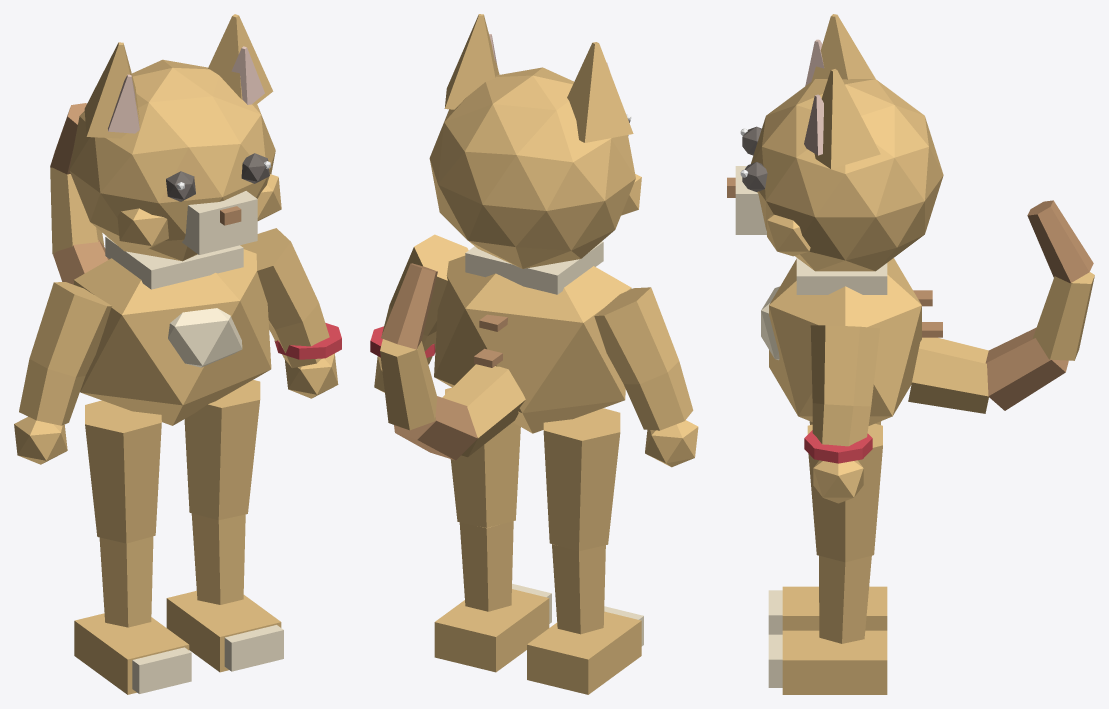
File: cat_v2_faceted.glb
The picture shows the model from 3 angles, left to right: view 1: azimuth 30°, elevation 25°; view 2: azimuth 150°, elevation 25°; view 3: azimuth 270°, elevation 25°; orthographic projection.
Visible parts, largest first — view 1: Head, Torso, Thigh.-1, Thigh.1, Arm.-1, Arm.1, Boot.-1, Boot.1, Shin.1, Shin.-1, Collar, Chest (+17 smaller); view 2: Head, Torso, Thigh.-1, Arm.-1, Boot.-1, Boot.1, Thigh.1, Shin.1, Shin.-1, Tail.2, Tail.0, Ear.-1 (+6 smaller); view 3: Head, Torso, Arm.1, Boot.1, Thigh.1, Tail.0, Shin.1, Tail.1, Tail.2, Ear.1, Tail.3, Boot.-1 (+11 smaller).
Boxes of the visible parts, bbox=[...] form: Head: bbox=[69, 59, 275, 261]; Torso: bbox=[73, 249, 271, 425]; Thigh.-1: bbox=[85, 400, 161, 543]; Thigh.1: bbox=[184, 380, 260, 520]; Arm.-1: bbox=[19, 282, 111, 425]; Arm.1: bbox=[240, 228, 329, 368]; Boot.-1: bbox=[74, 613, 189, 694]; Boot.1: bbox=[166, 591, 281, 672]; Shin.1: bbox=[191, 513, 245, 604]; Shin.-1: bbox=[99, 536, 153, 627]; Collar: bbox=[105, 236, 243, 289]; Chest: bbox=[168, 308, 242, 367]; Head: bbox=[429, 67, 635, 268]; Torso: bbox=[434, 255, 631, 433]; Thigh.-1: bbox=[543, 408, 620, 551]; Arm.-1: bbox=[594, 287, 693, 430]; Boot.-1: bbox=[527, 611, 641, 694]; Boot.1: bbox=[434, 589, 549, 672]; Thigh.1: bbox=[445, 387, 520, 527]; Shin.1: bbox=[459, 521, 513, 611]; Shin.-1: bbox=[552, 544, 605, 634]; Tail.2: bbox=[380, 339, 437, 430]; Tail.0: bbox=[442, 364, 525, 457]; Ear.-1: bbox=[567, 42, 633, 142]; Head: bbox=[751, 79, 943, 271]; Torso: bbox=[769, 258, 921, 425]; Arm.1: bbox=[810, 325, 879, 446]; Boot.1: bbox=[782, 630, 887, 694]; Thigh.1: bbox=[807, 423, 882, 562]; Tail.0: bbox=[908, 337, 988, 413]; Shin.1: bbox=[819, 555, 871, 643]; Tail.1: bbox=[985, 327, 1068, 410]; Tail.2: bbox=[1033, 272, 1094, 360]; Ear.1: bbox=[814, 69, 880, 168]; Tail.3: bbox=[1027, 200, 1093, 282]; Boot.-1: bbox=[782, 586, 887, 630].
Size of the model in its own units: 0.9584 by 1.79 by 0.9698.
